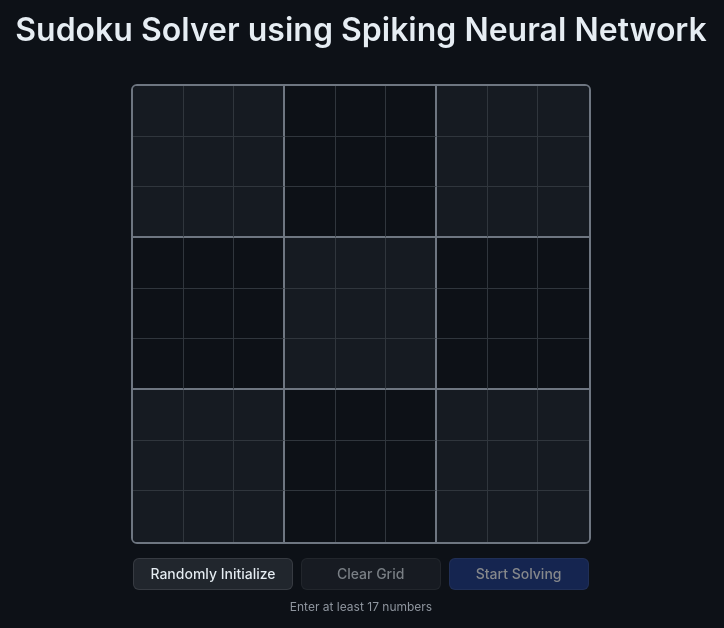
Test case: App › clears the grid
Expected: the button "Clear Grid" is disabled, x1=301 y1=558 x2=441 y2=590
Click the button "Randomly Initialize" at (213, 574), box x1=133 y1=558 x2=293 y2=590
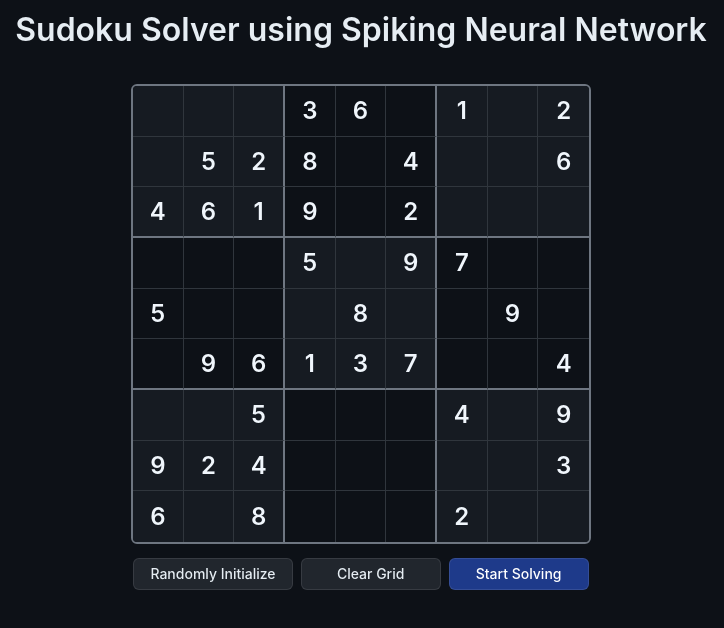
Result: the button "Clear Grid" is enabled
Click the button "Clear Grid" at (371, 574), box x1=301 y1=558 x2=441 y2=590
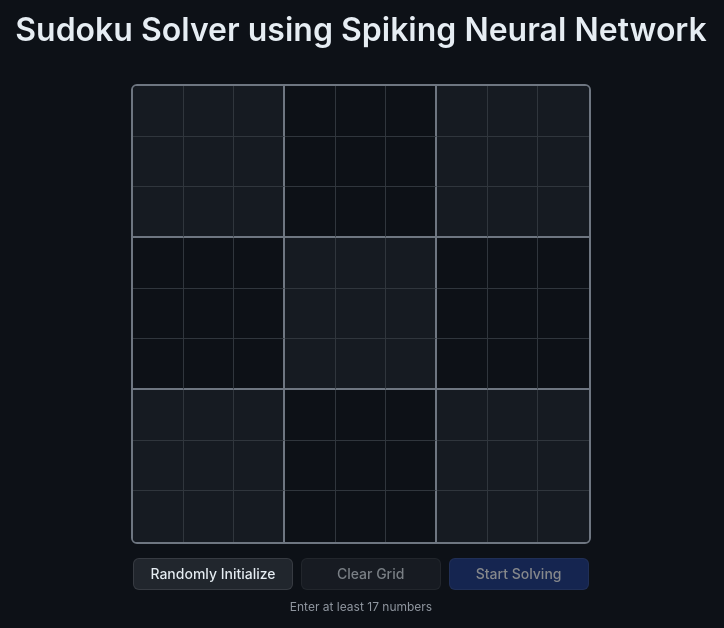
Result: the button "Clear Grid" is disabled at x1=301 y1=558 x2=441 y2=590
